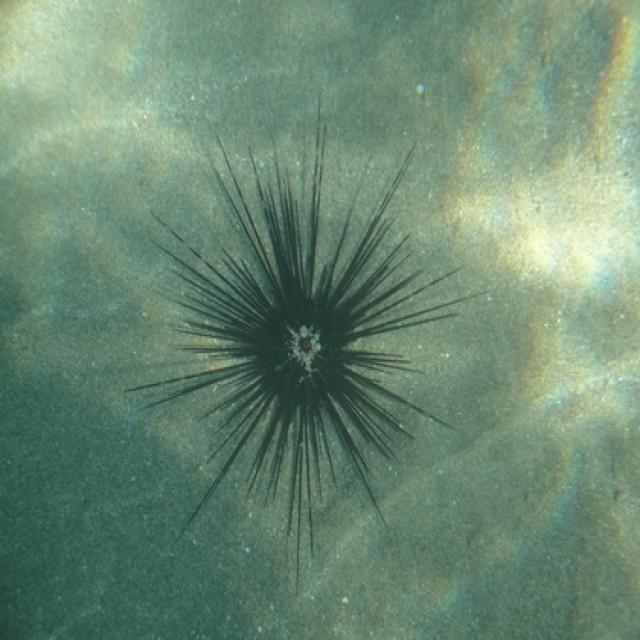Urchin: (129, 92, 488, 587)
